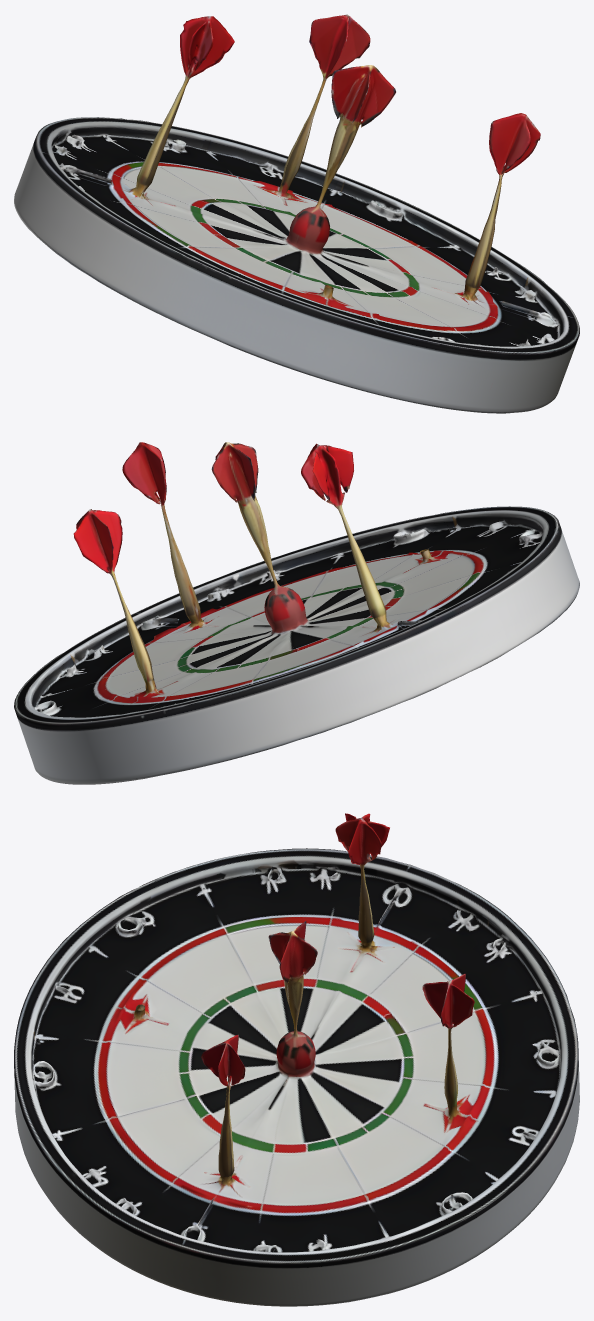
The model's file is Dart Board.fbx.
3 renders of one model, top to bottom at view 1: azimuth 30°, elevation 25°; view 2: azimuth 150°, elevation 25°; view 3: azimuth 270°, elevation 25°, orthographic. The views are drawn at different scales.
Parts seen in each view (by area): view 1: Dart Board; view 2: Dart Board; view 3: Dart Board.
Part boxes in pixels (x1,y1,x2,y2): Dart Board: [14, 14, 579, 413]; Dart Board: [14, 442, 579, 784]; Dart Board: [14, 813, 579, 1306].
Bounding box in the file's own units: 70.91 × 51.11 × 73.36.
